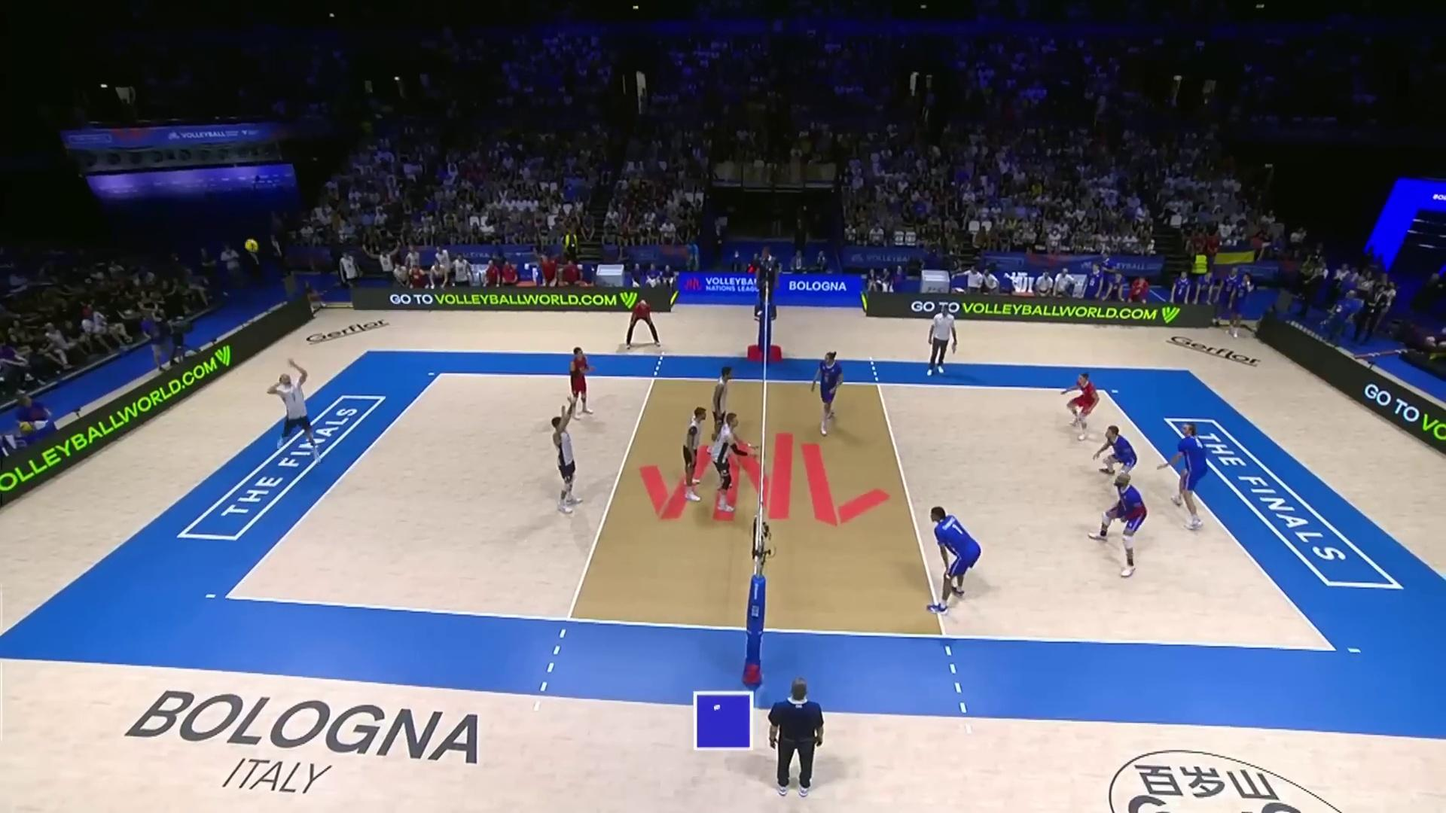player: (1088, 472, 1150, 579), (924, 505, 982, 615), (1156, 422, 1210, 531), (710, 410, 757, 513), (270, 367, 315, 452), (549, 407, 584, 515), (676, 405, 711, 504), (1059, 374, 1103, 442), (1093, 425, 1138, 490), (811, 350, 843, 439), (564, 347, 593, 422), (711, 365, 734, 449)
refree: (771, 678, 827, 798), (755, 248, 778, 307)
